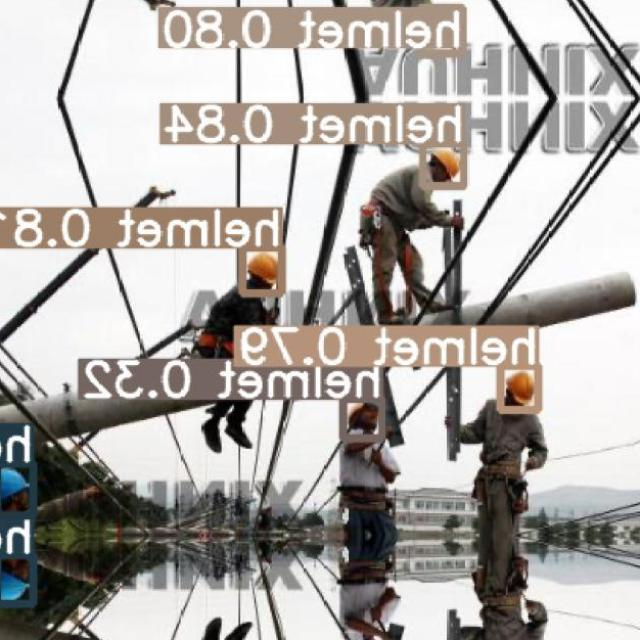helmet: (431, 147, 461, 181), (248, 252, 279, 283), (507, 371, 536, 403), (1, 467, 30, 499)
